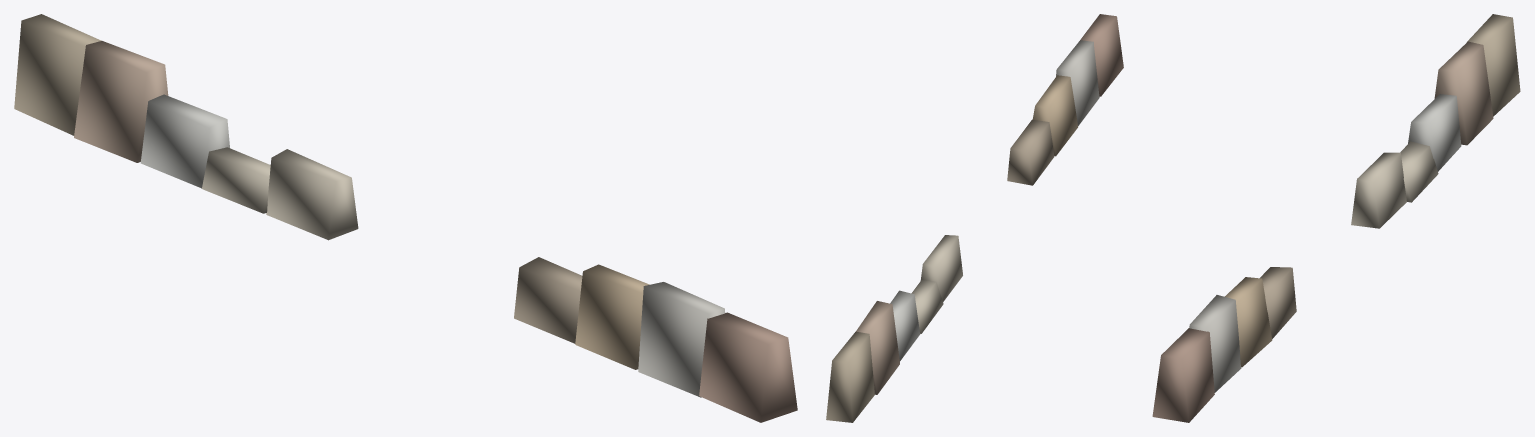
File: farm_-10_-8_far.glb
3 renders of one model, left to right at view 1: azimuth 30°, elevation 25°; view 2: azimuth 150°, elevation 25°; view 3: azimuth 330°, elevation 25°, orthographic. The views are drawn at different scales.
Visible parts, largest first — view 1: geometry_0; view 2: geometry_0; view 3: geometry_0.
Boxes of the visible parts, x1,y1,x2,y2 form: geometry_0: (14, 14, 797, 422); geometry_0: (826, 14, 1123, 422); geometry_0: (1152, 14, 1520, 422).
Bounding box in the file's own units: 3.74 × 2.37 × 17.6.
